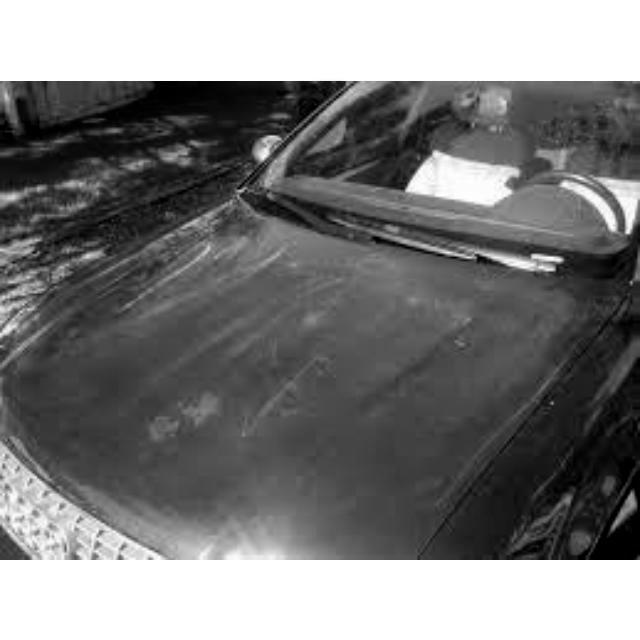bonnet-dent: (5, 241, 593, 557)
